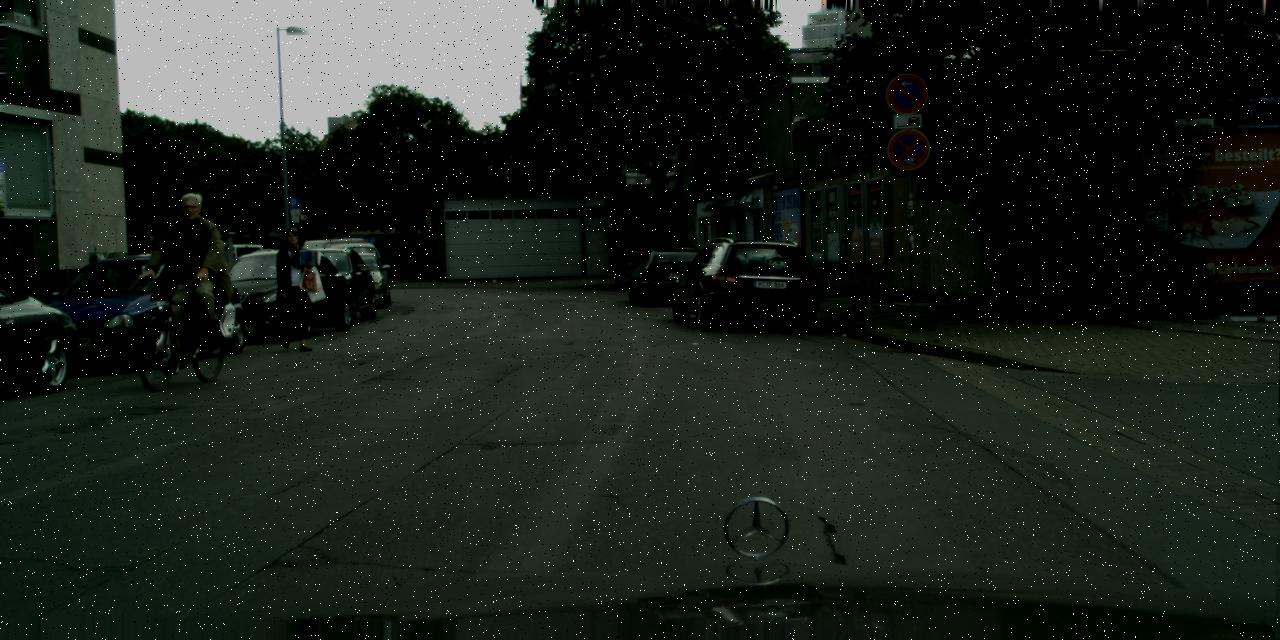ped: (158, 193, 222, 350), (268, 227, 318, 347)
